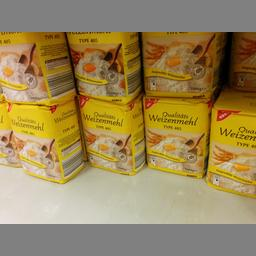flour: (7, 98, 80, 183), (140, 95, 206, 178), (76, 92, 142, 174), (0, 32, 77, 101), (138, 32, 218, 97), (206, 92, 254, 198), (64, 31, 141, 97)
